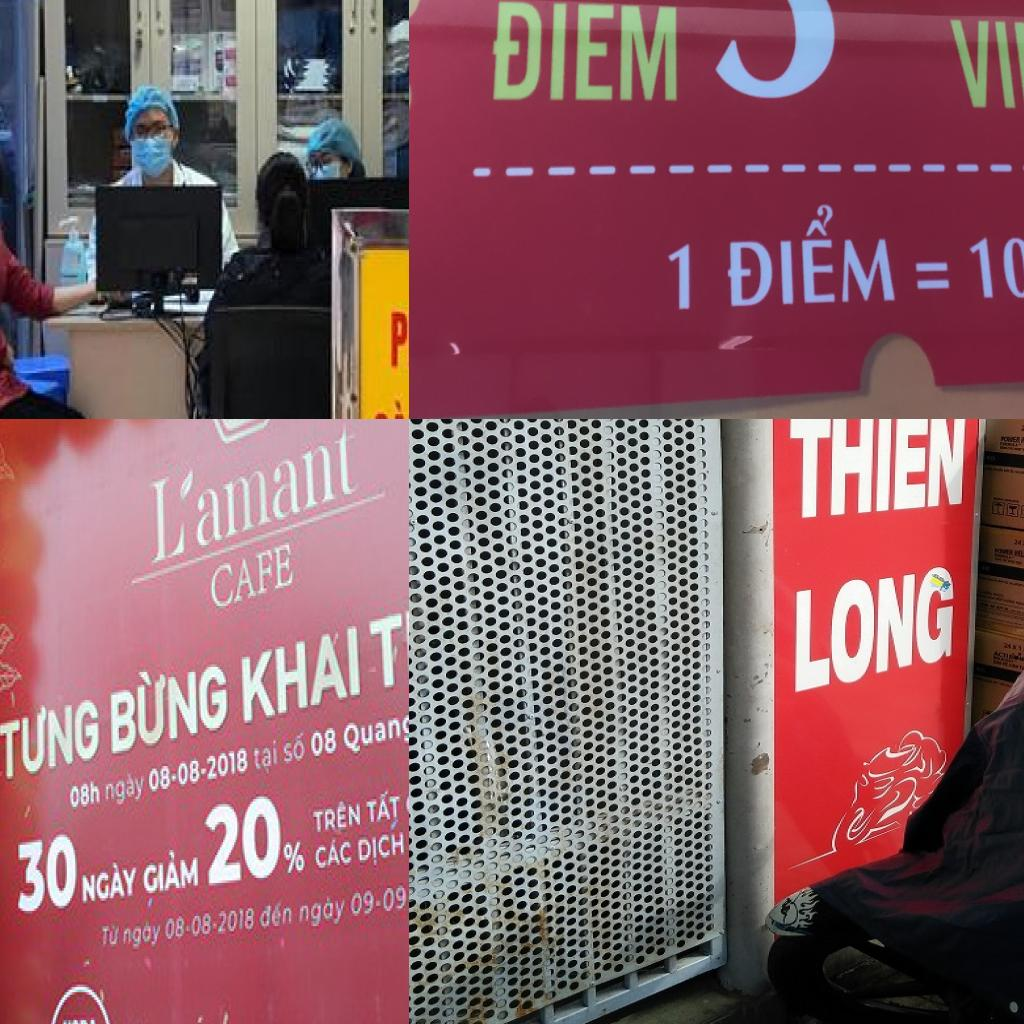text: (194, 421, 357, 555), (794, 562, 955, 695), (485, 0, 681, 106), (721, 203, 899, 318), (788, 419, 971, 521), (102, 647, 229, 766), (701, 0, 838, 109), (236, 621, 362, 731), (0, 684, 101, 786), (192, 784, 284, 890), (945, 15, 1024, 118), (210, 535, 297, 619), (10, 830, 80, 924), (139, 471, 190, 573), (343, 700, 409, 763), (657, 228, 702, 316), (139, 842, 201, 901), (80, 855, 141, 911), (313, 794, 365, 840), (355, 830, 409, 872), (104, 766, 148, 812), (909, 252, 957, 294), (297, 893, 346, 934), (386, 293, 409, 375), (207, 746, 250, 786), (314, 835, 356, 875), (364, 786, 402, 830), (66, 776, 102, 817), (250, 738, 281, 784), (281, 726, 310, 771), (216, 906, 258, 936), (259, 898, 294, 934), (124, 921, 163, 952), (311, 723, 340, 763), (283, 835, 308, 880), (148, 761, 172, 799), (176, 756, 202, 791), (350, 888, 376, 921), (384, 883, 409, 916), (190, 908, 212, 944), (164, 913, 186, 944), (100, 918, 122, 946), (60, 1015, 100, 1024), (1000, 435, 1022, 445), (1004, 642, 1024, 653), (986, 455, 998, 463), (980, 564, 992, 572), (1013, 538, 1024, 546), (994, 546, 1002, 554), (1006, 548, 1014, 556), (1019, 424, 1024, 433)
